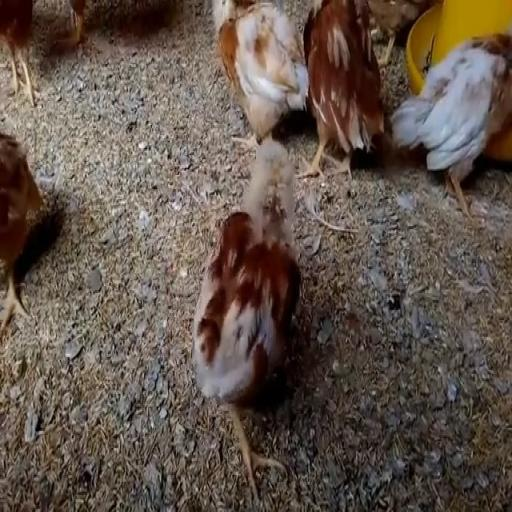disease: (255, 174, 291, 244)
